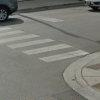Crosswalk: (0, 26, 99, 80)
